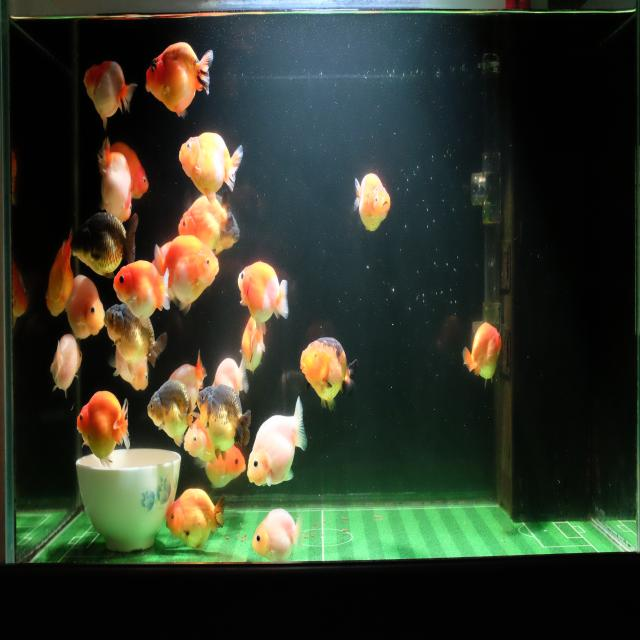Tilapia: (144, 39, 214, 124), (153, 234, 220, 320), (246, 395, 307, 489), (69, 209, 142, 280), (299, 335, 360, 413), (178, 128, 244, 198), (75, 388, 130, 468), (196, 384, 253, 461), (82, 56, 139, 132), (166, 486, 227, 554), (146, 376, 202, 447), (238, 260, 290, 336), (112, 258, 173, 321), (177, 185, 235, 248), (96, 138, 132, 225), (66, 265, 106, 342), (43, 226, 75, 320), (103, 138, 150, 202), (251, 508, 303, 562), (462, 321, 503, 389), (167, 348, 208, 410), (352, 171, 391, 235), (196, 443, 247, 491), (49, 330, 84, 397), (213, 355, 249, 403), (239, 314, 267, 375)
